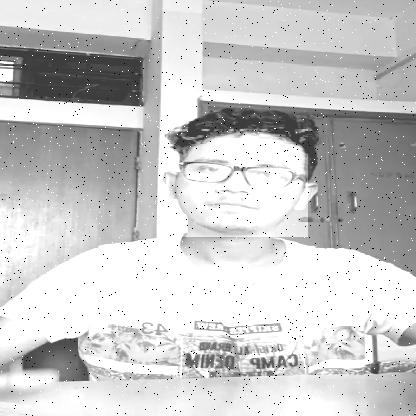Normal: (166, 129, 308, 237)
